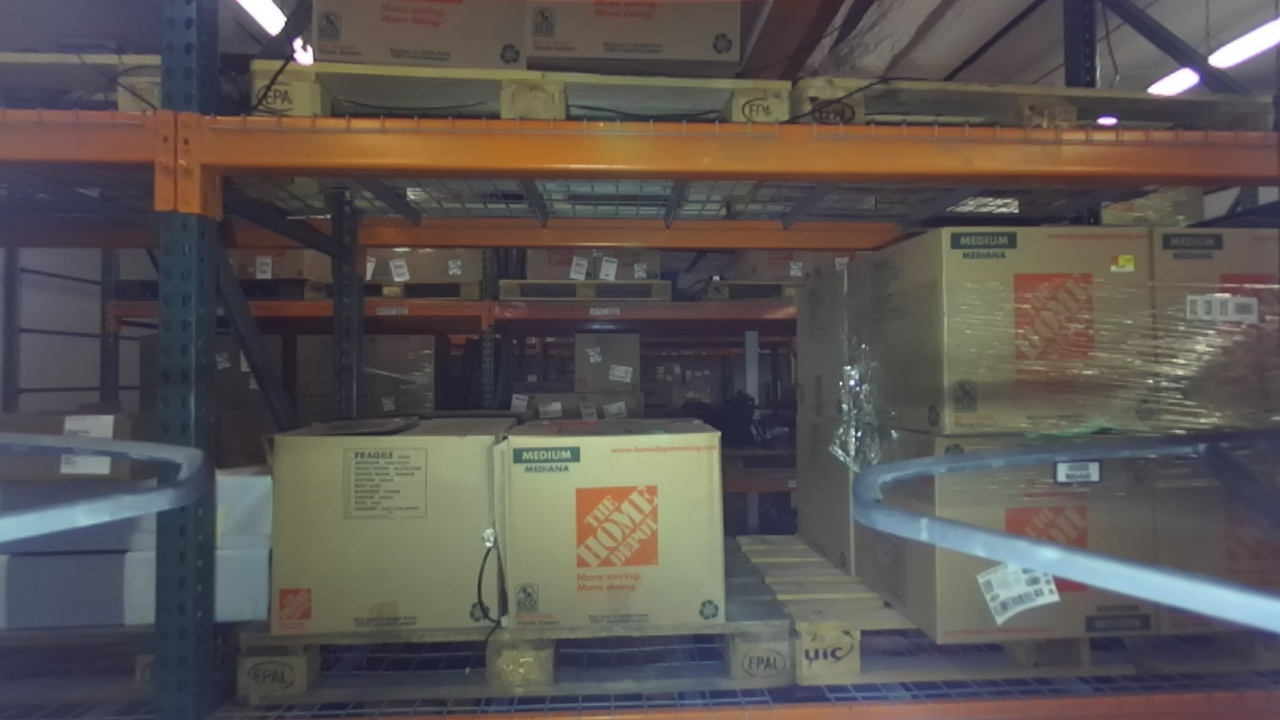box: (237, 405, 539, 650), (902, 191, 1165, 451), (895, 418, 1171, 665), (490, 393, 749, 647)
